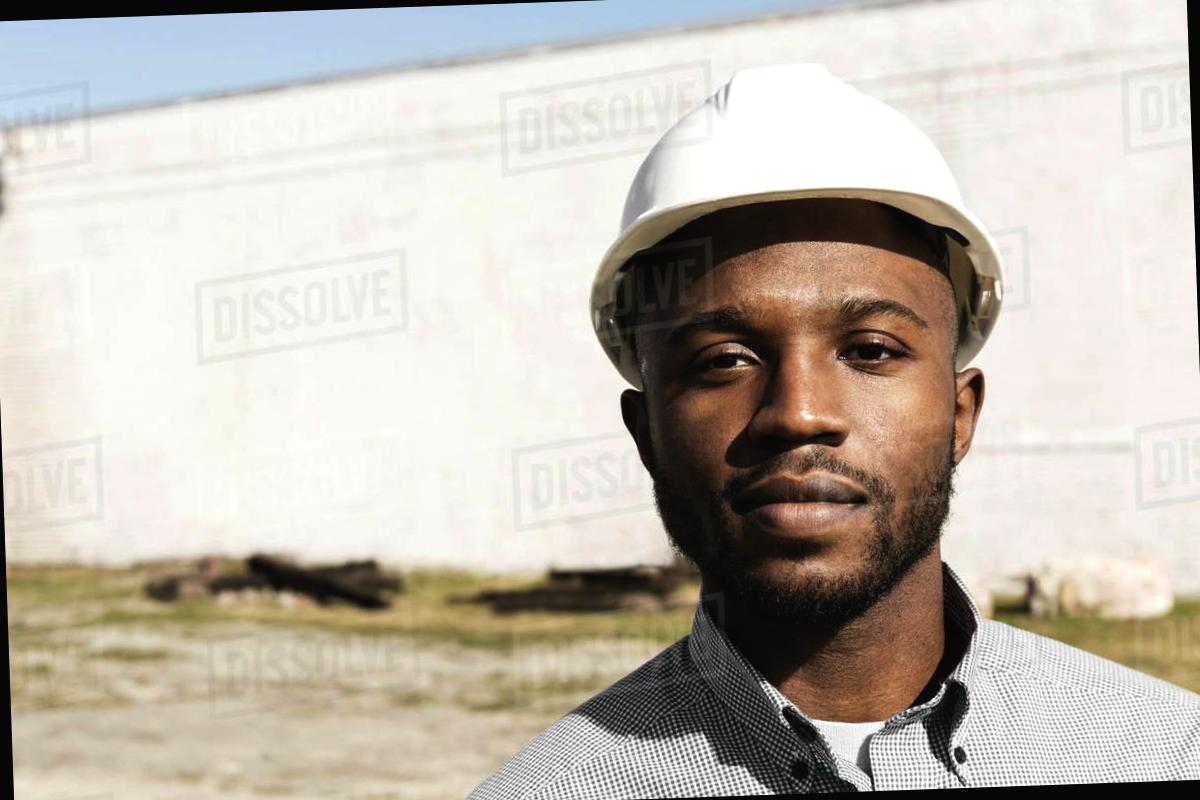helmet: (562, 54, 1028, 360)
person: (511, 51, 1137, 800)
